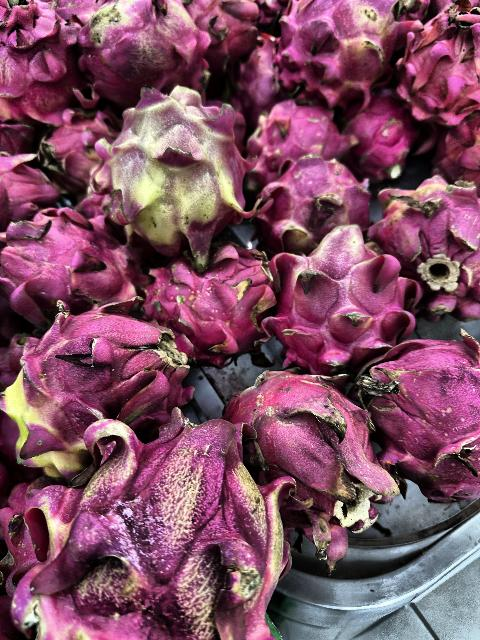buah-naga-belum-matang: (19, 414, 289, 640), (1, 303, 200, 461), (89, 88, 253, 246), (278, 232, 401, 356), (378, 176, 480, 310), (75, 0, 215, 88), (271, 1, 398, 98), (253, 156, 371, 242)
buah-naga-matang: (234, 367, 390, 541), (358, 337, 480, 488), (0, 204, 136, 310), (144, 248, 268, 346), (0, 0, 84, 120), (400, 7, 480, 125), (244, 100, 352, 168), (348, 96, 419, 176), (225, 38, 281, 116), (186, 0, 258, 56), (40, 112, 102, 176), (1, 149, 60, 213), (430, 120, 480, 182)
